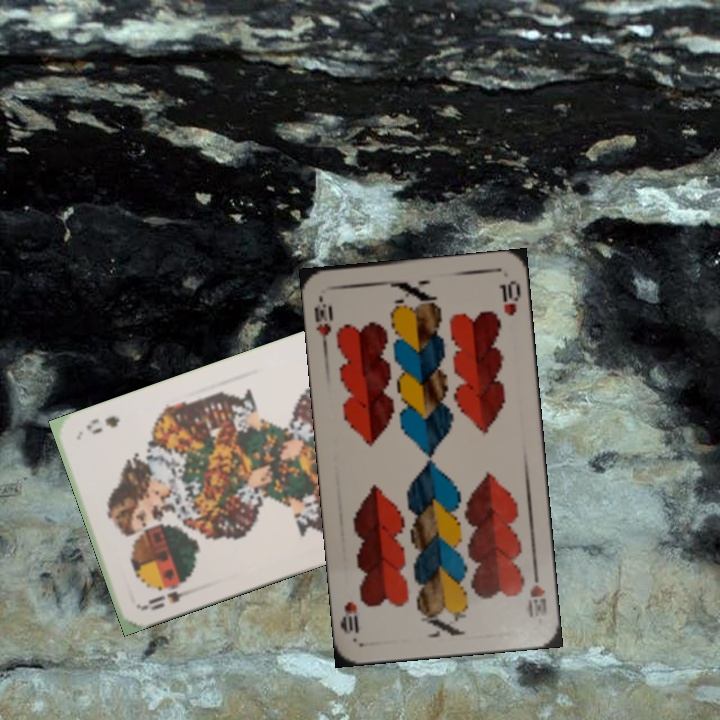H10: (310, 292, 336, 351), (524, 563, 550, 620)
SO: (140, 584, 198, 613)
